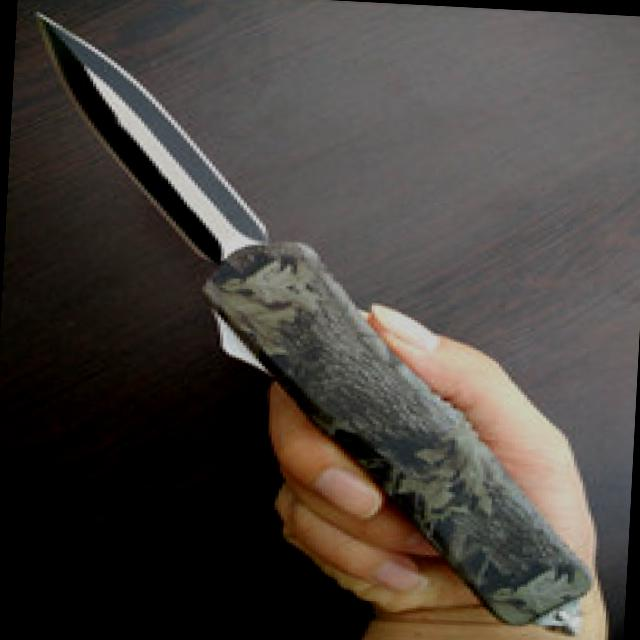knife: (6, 0, 543, 533)
